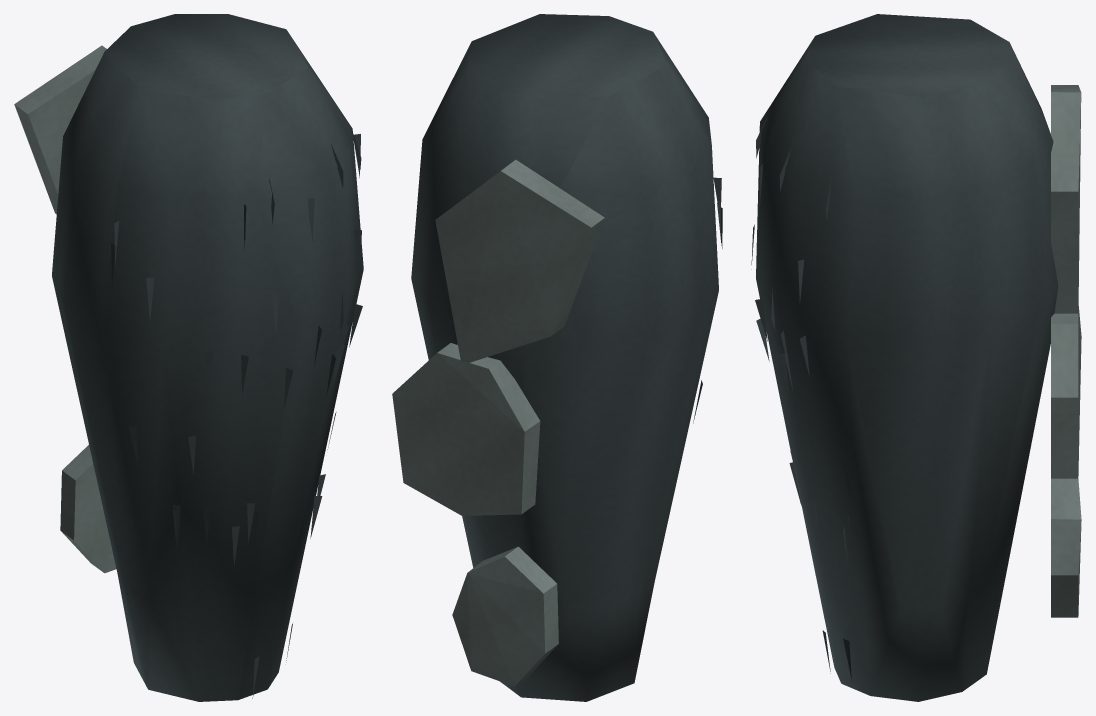
Rendered from shin_r_lod2.glb.
The picture shows the model from 3 angles, left to right: view 1: azimuth 30°, elevation 25°; view 2: azimuth 150°, elevation 25°; view 3: azimuth 270°, elevation 25°; orthographic projection.
Visible parts, largest first — view 1: dormin_shin_r_LOD2; view 2: dormin_shin_r_LOD2; view 3: dormin_shin_r_LOD2.
Part boxes in pixels (x1,y1,x2,y2): dormin_shin_r_LOD2: (14, 14, 363, 701); dormin_shin_r_LOD2: (392, 14, 722, 701); dormin_shin_r_LOD2: (751, 14, 1081, 701).
Size of the model in its own units: 1.64 by 3.59 by 1.74.
Materials: 2 (2 with a texture image).
